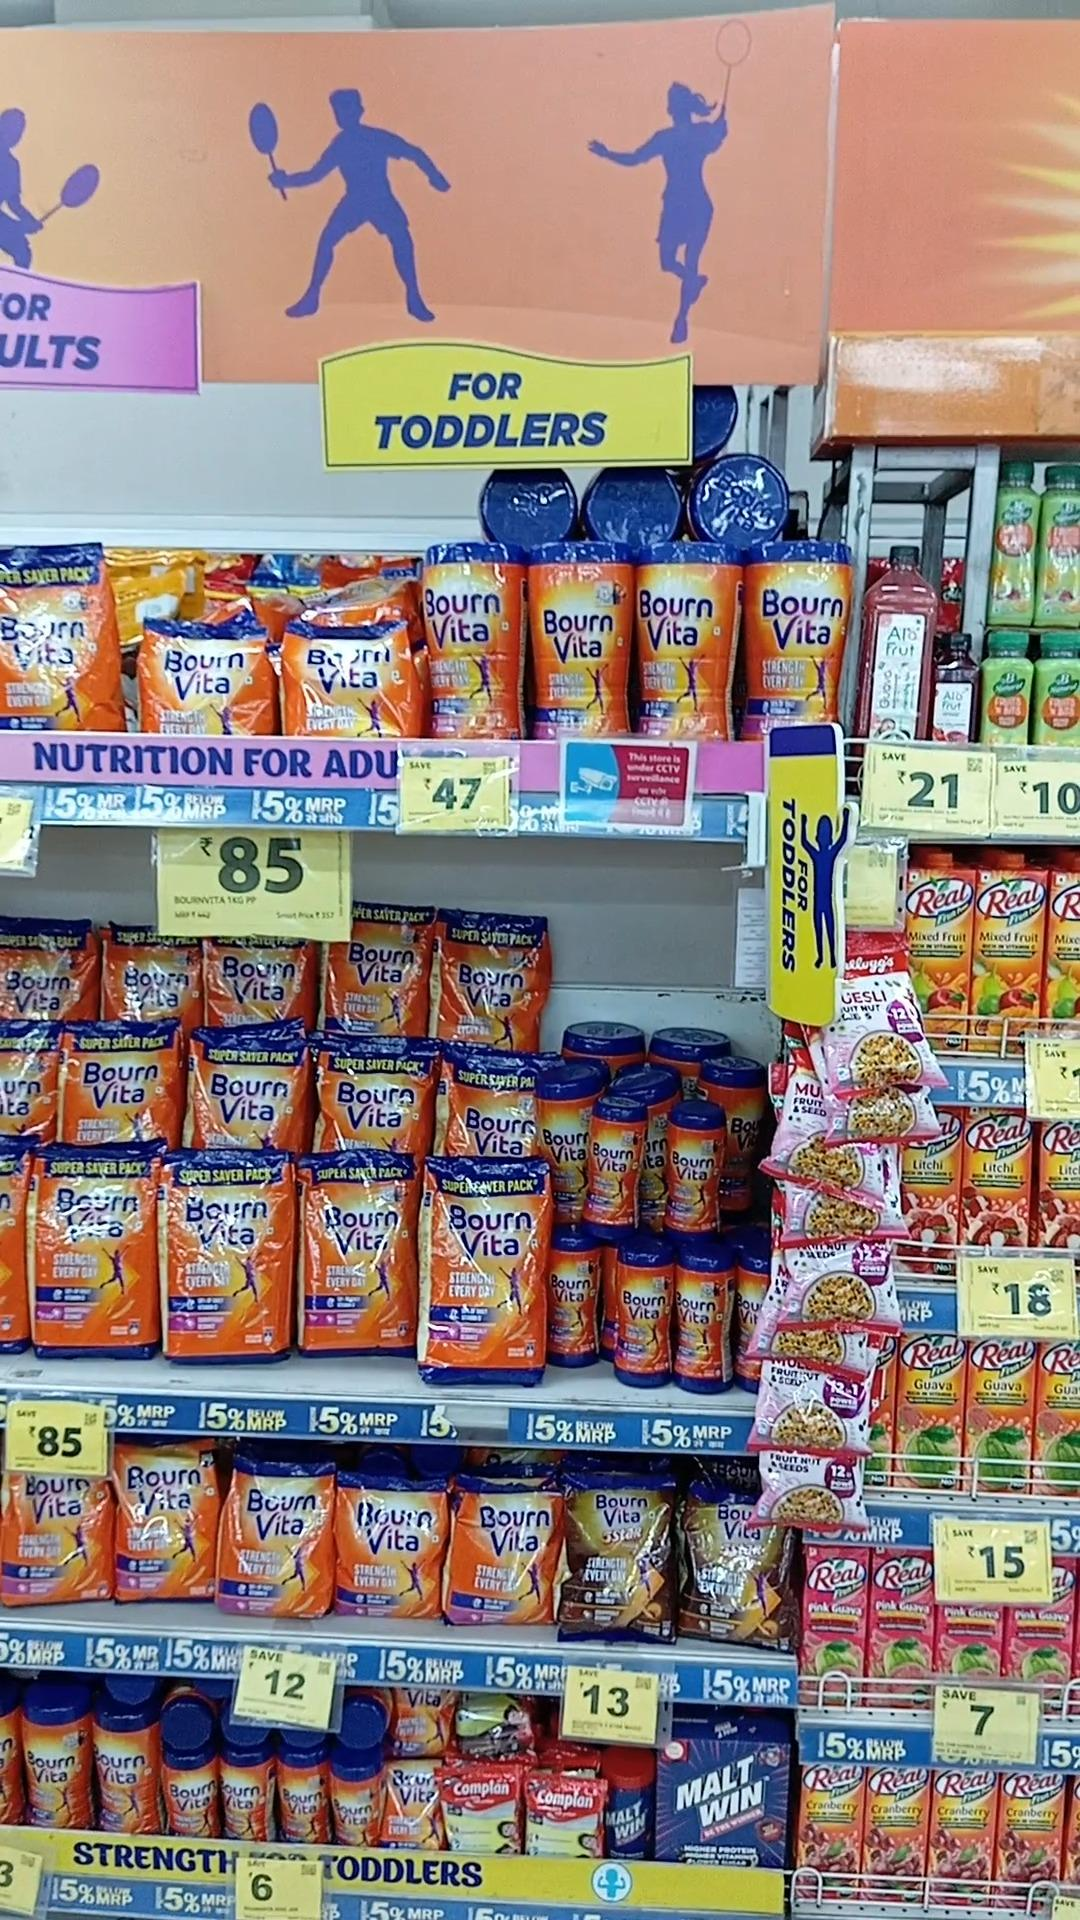BOURN_VITA_1_KG_JAR: (421, 539, 521, 737), (527, 541, 628, 733), (637, 543, 737, 733), (748, 543, 844, 717)
BOURN_VITA_1_KG_POUCH: (422, 1159, 546, 1386), (158, 1154, 291, 1364), (28, 1147, 153, 1360), (299, 1155, 413, 1356), (0, 545, 117, 731), (435, 910, 549, 1040), (190, 1030, 303, 1145), (65, 1023, 182, 1134), (316, 1040, 429, 1150), (442, 1044, 534, 1151), (320, 942, 427, 1031)
BOURN_VITA_200_G_JAR: (162, 1727, 220, 1841), (223, 1731, 274, 1841), (277, 1731, 326, 1844), (327, 1755, 380, 1846)
BOURN_VITA_500_G_JAR: (25, 1700, 90, 1829), (675, 1246, 731, 1396), (95, 1710, 158, 1833), (616, 1247, 671, 1387), (588, 1097, 644, 1237), (666, 1106, 721, 1241), (551, 1238, 599, 1367)
BOURN_VITA_500_G_POUCH: (225, 1457, 332, 1617), (284, 616, 413, 738), (140, 617, 274, 732), (338, 1473, 442, 1621), (447, 1481, 551, 1623)
BOURN_VITA_750_G_POUCH: (112, 1437, 212, 1604), (0, 1469, 107, 1604)
BOURN_VITA_75_G_POUCH: (382, 1762, 440, 1851)
BOURN_VITA_FIVE_STAR_MAGIC_500_G_POUCH: (566, 1484, 675, 1638), (682, 1515, 796, 1651)
